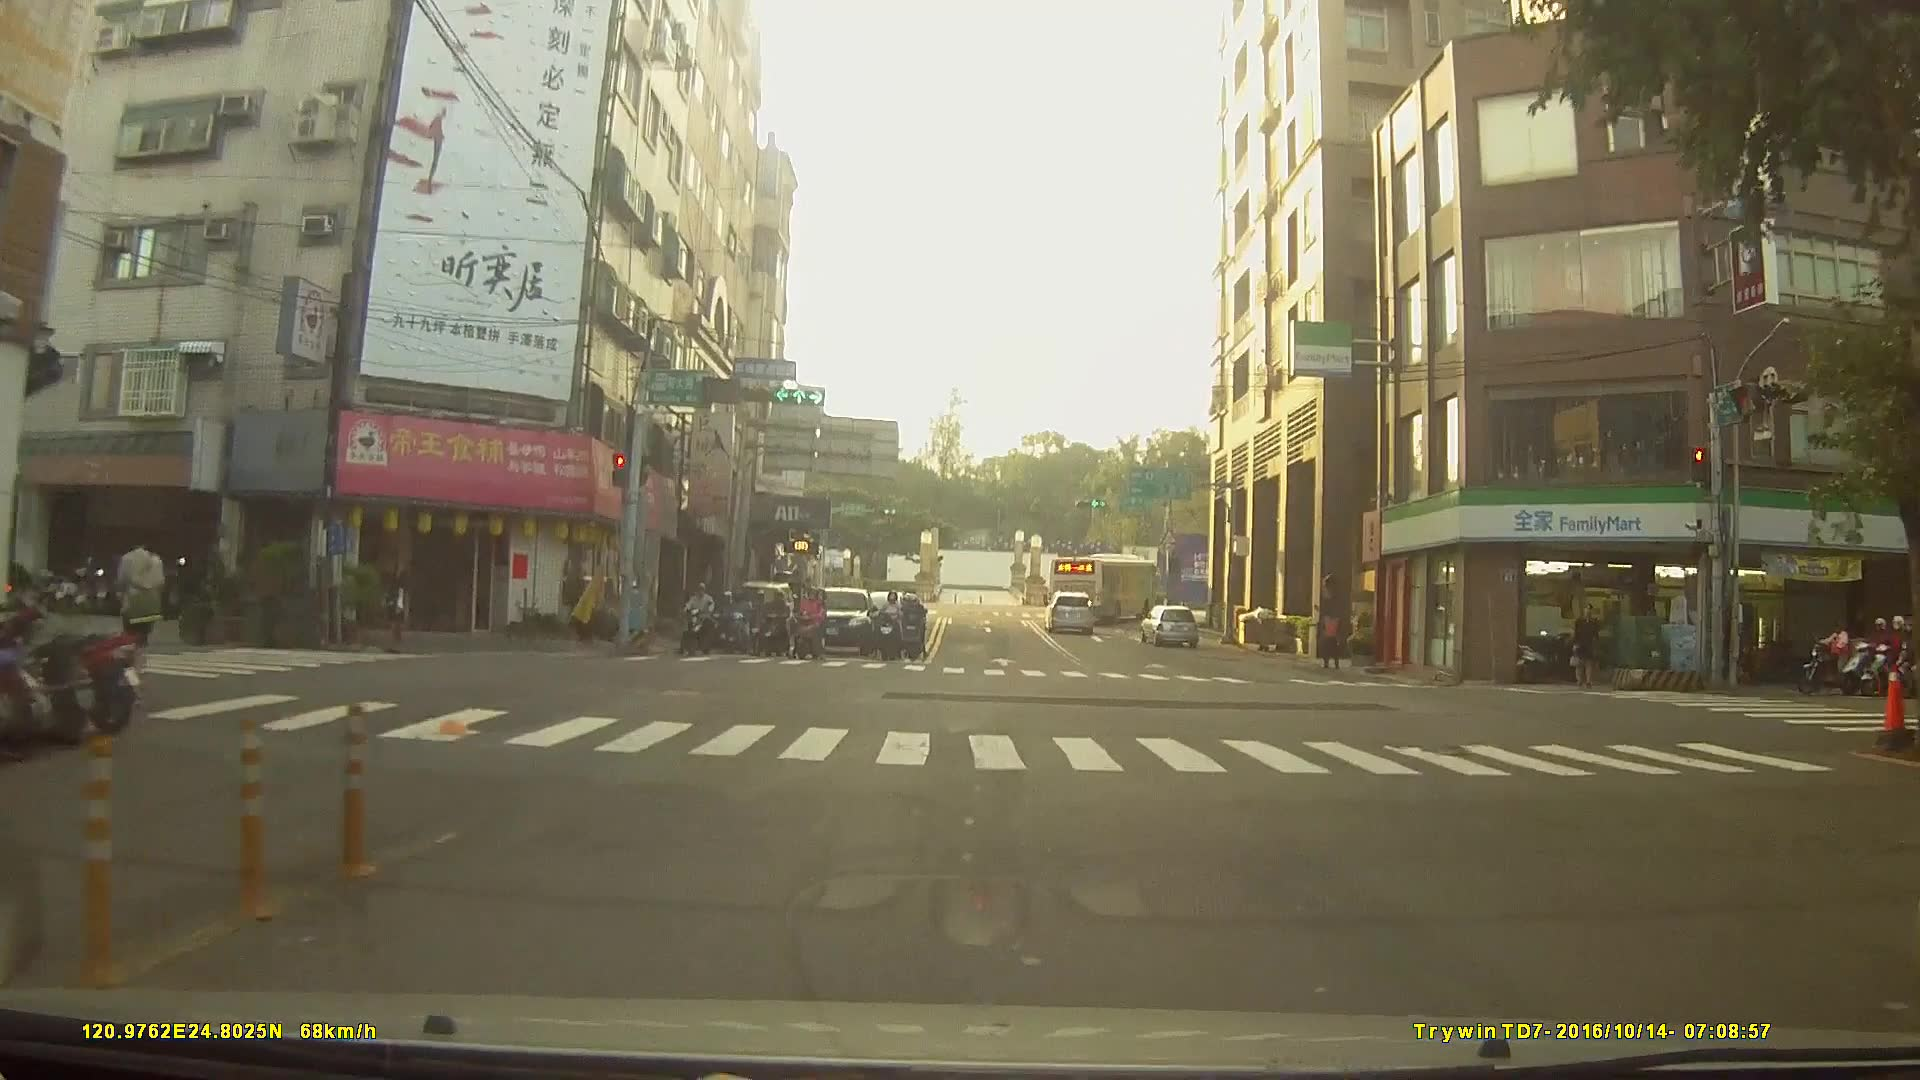pedestrian: (106, 525, 169, 698), (381, 577, 417, 659), (1570, 607, 1601, 697), (1315, 610, 1345, 674)
rider: (1836, 619, 1898, 693), (1798, 619, 1860, 691), (681, 586, 718, 662), (797, 587, 830, 669), (755, 595, 794, 662), (897, 596, 932, 665), (879, 606, 907, 678), (723, 597, 754, 660)
vehicle: (1047, 555, 1161, 627), (801, 584, 876, 656), (1137, 604, 1201, 647), (1043, 589, 1096, 635)
